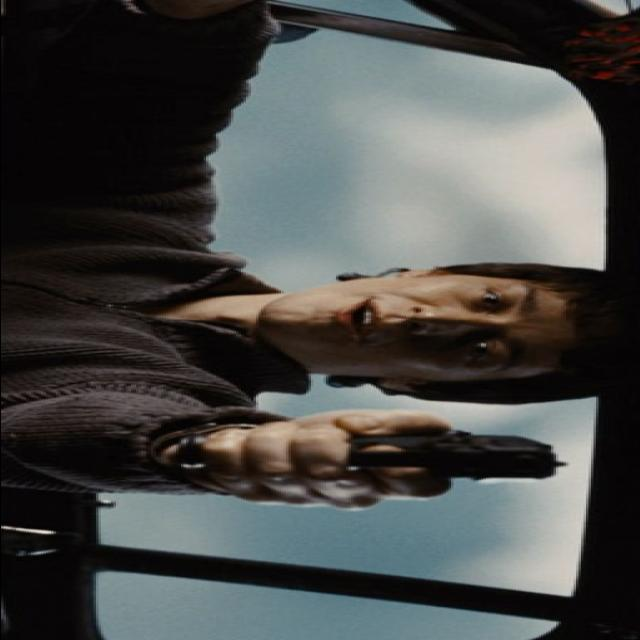weapons: (267, 404, 586, 497)
